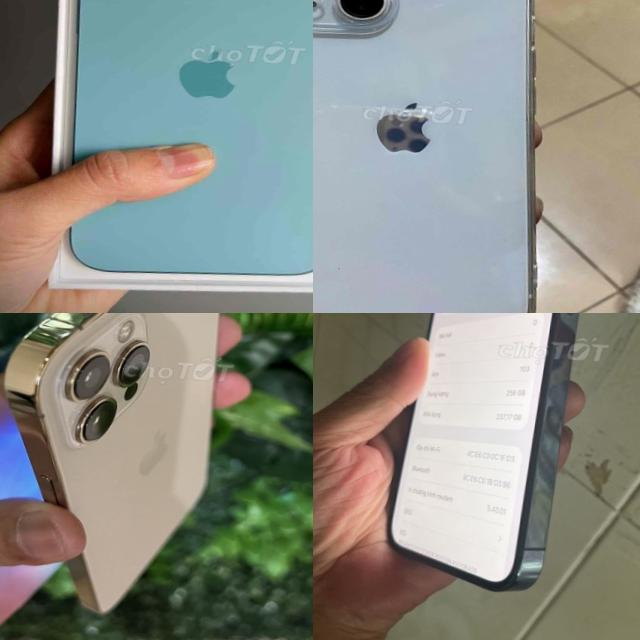gen_12_13: (313, 0, 562, 313), (0, 313, 240, 620), (382, 313, 607, 599)
gen_16: (47, 0, 313, 289)
